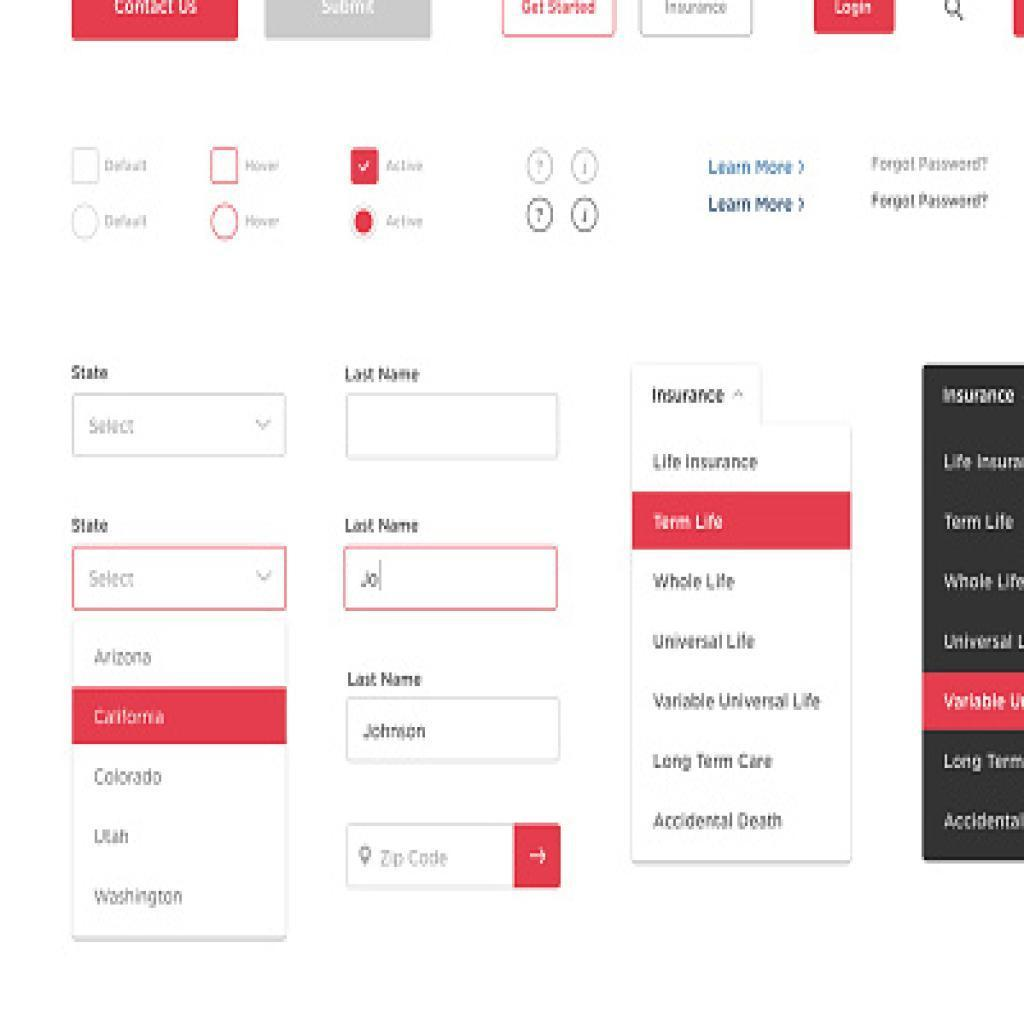button: (632, 492, 855, 552), (74, 688, 290, 746)
checkbox: (351, 148, 380, 188), (210, 148, 239, 185), (73, 151, 99, 183)
dropdown: (75, 395, 289, 458), (75, 551, 287, 610), (630, 366, 764, 426)
icon: (534, 154, 550, 180), (534, 206, 547, 227), (578, 159, 591, 178), (582, 205, 592, 226)
input: (345, 545, 558, 613), (346, 698, 560, 765), (349, 395, 559, 461), (349, 826, 518, 887)
label: (341, 363, 427, 389), (342, 518, 424, 540), (345, 669, 424, 690), (384, 210, 431, 232), (103, 211, 153, 231), (71, 362, 114, 384), (245, 211, 284, 234), (105, 158, 151, 177), (72, 515, 111, 536), (387, 157, 426, 177), (243, 161, 283, 178)
radio: (209, 199, 242, 247), (72, 203, 101, 245), (351, 204, 377, 244)
